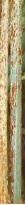Wheat: (2, 1, 22, 205)
